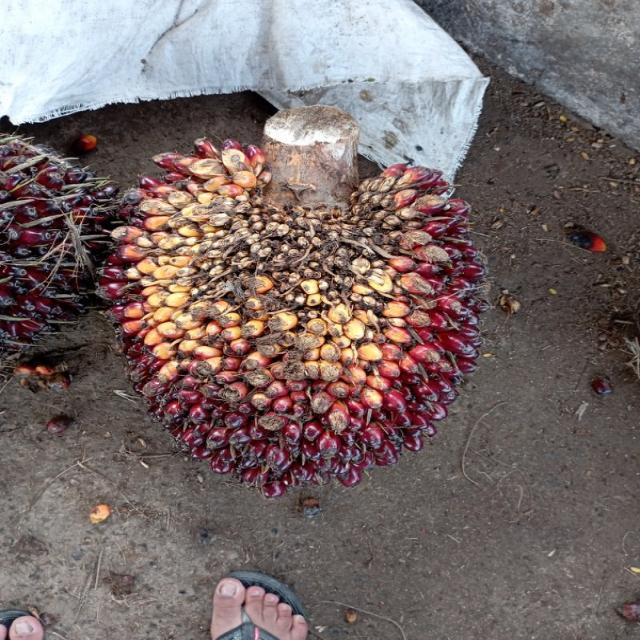fraksi 1: (96, 109, 514, 524)
